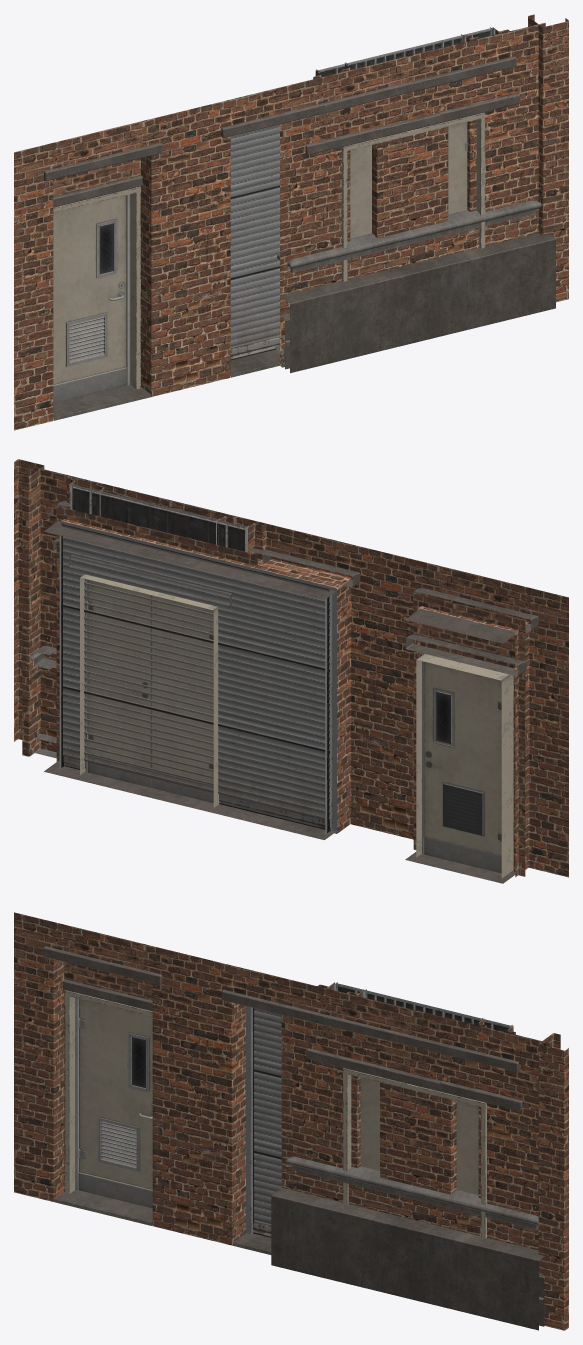
File: modular_factory_facade.glb
The picture shows the model from 3 angles, top to bottom: view 1: azimuth 30°, elevation 25°; view 2: azimuth 150°, elevation 25°; view 3: azimuth 330°, elevation 25°; orthographic projection.
Visible parts, largest first — view 1: wall_door_garage_door_01, door_garage_door_01, base_standard_standard_01, wall_door_centered_large_01, wall_window_centered_double_01, wall_door_recessed_large_01, door_centered_large_01, wall_pier_corner_01, window_tall_large_01, wall_window_tall_small_01, wall_window_tall_large_01, window_centered_double_01 (+1 smaller); view 2: door_garage_door_01, wall_door_garage_door_01, door_recessed_large_01, wall_pier_corner_01, wall_window_tall_large_01, window_tall_large_01, wall_window_tall_small_01, wall_door_recessed_large_01, wall_window_centered_double_01, window_tall_small_01; view 3: wall_door_garage_door_01, door_garage_door_01, base_standard_standard_01, wall_door_recessed_large_01, wall_door_centered_large_01, wall_window_centered_double_01, wall_pier_corner_01, door_centered_large_01, window_tall_large_01, wall_window_tall_small_01, wall_window_tall_large_01, window_centered_double_01 (+1 smaller).
Part boxes in pixels (x1,y1,x2,y2): wall_door_garage_door_01: (14,24,538,430); door_garage_door_01: (44,56,516,420); base_standard_standard_01: (280,233,555,373); wall_door_centered_large_01: (319,69,506,286); wall_window_centered_double_01: (372,127,448,271); wall_door_recessed_large_01: (280,22,545,365); door_centered_large_01: (335,102,493,281); wall_pier_corner_01: (528,14,568,302); window_tall_large_01: (277,27,541,272); wall_window_tall_small_01: (342,35,481,275); wall_window_tall_large_01: (313,27,510,279); window_centered_double_01: (305,93,520,154); door_garage_door_01: (48,500,538,883); wall_door_garage_door_01: (247,532,568,877); door_recessed_large_01: (44,504,270,807); wall_pier_corner_01: (14,459,44,756); wall_window_tall_large_01: (33,467,296,752); window_tall_large_01: (30,482,249,669); wall_window_tall_small_01: (33,467,301,751); wall_door_recessed_large_01: (56,506,257,761); wall_window_centered_double_01: (98,482,236,519); window_tall_small_01: (99,489,220,544); wall_door_garage_door_01: (14,912,547,1250); door_garage_door_01: (43,946,518,1254); base_standard_standard_01: (271,1188,544,1330); wall_door_recessed_large_01: (281,978,549,1248); wall_door_centered_large_01: (321,1024,509,1243); wall_window_centered_double_01: (380,1082,456,1228); wall_pier_corner_01: (538,1033,568,1330); door_centered_large_01: (334,1058,493,1238); window_tall_large_01: (286,982,538,1229); wall_window_tall_small_01: (347,989,486,1235); wall_window_tall_large_01: (317,982,515,1236); window_centered_double_01: (306,1048,522,1110).
Bounding box in the file's own units: 6.22 × 3 × 0.6999.
Materials: 6 (6 with a texture image).
